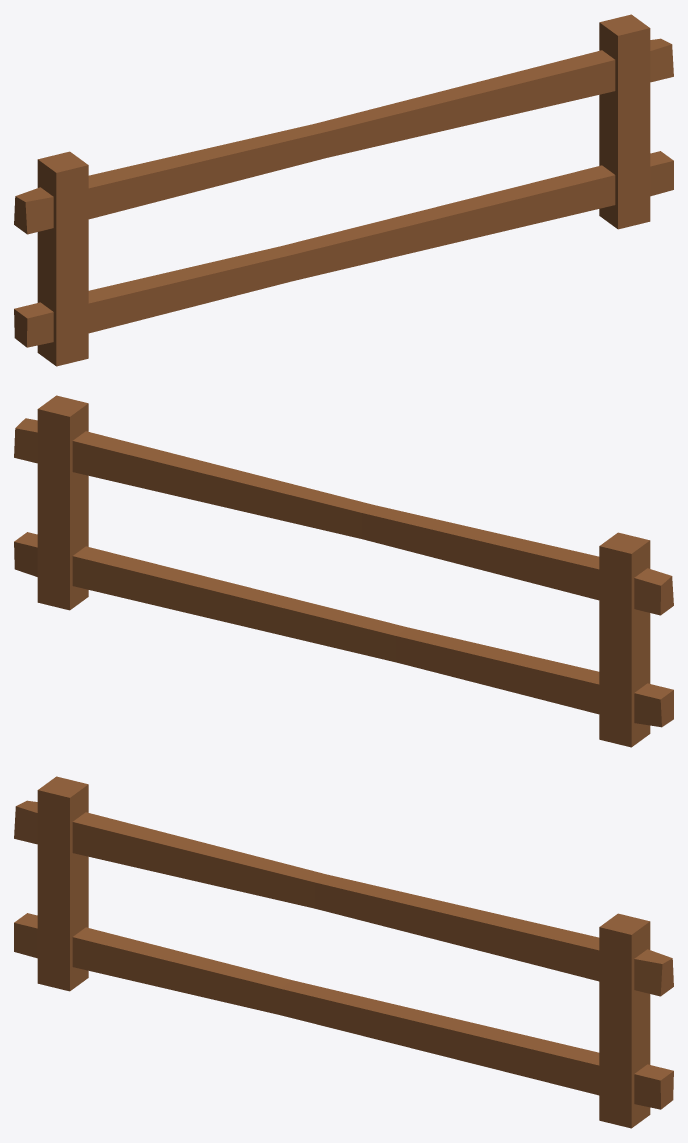
Rendered from Fence_Small.fbx.
The picture shows the model from 3 angles, top to bottom: view 1: azimuth 30°, elevation 25°; view 2: azimuth 150°, elevation 25°; view 3: azimuth 330°, elevation 25°; orthographic projection.
Visible parts, largest first — view 1: Fence_Small; view 2: Fence_Small; view 3: Fence_Small.
Part boxes in pixels (<box>): Fence_Small: <box>14,14,673,366</box>; Fence_Small: <box>14,395,673,747</box>; Fence_Small: <box>14,776,673,1128</box>.
Size of the model in its own units: 304 by 86.85 by 15.14.
